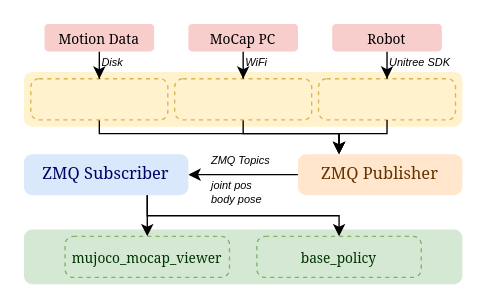
Image size: 485x307. Some labels were removed from this diagram. The shapes that lost their labels are listed below. From the top down, each one's centre as x and y in pixels, then its label:
At (x=98, y=98): "motion_data_publisher".
At (x=242, y=98): "vicon_pose_publisher".
At (x=386, y=98): "joint_state_publisher".
